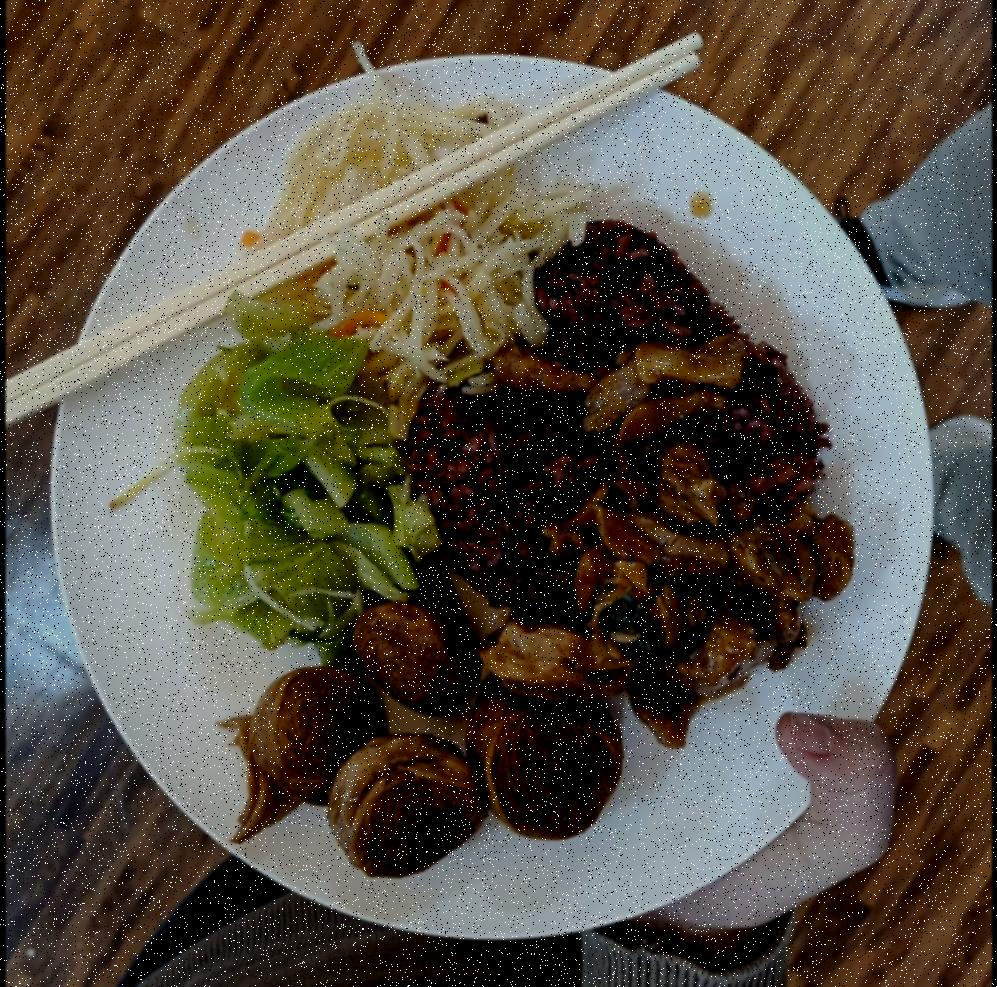plate: (32, 43, 940, 954)
purple rice: (410, 222, 834, 630)
side dish: (221, 602, 621, 876), (255, 85, 564, 352), (177, 338, 438, 644)
three cup chicken: (550, 338, 855, 758)
